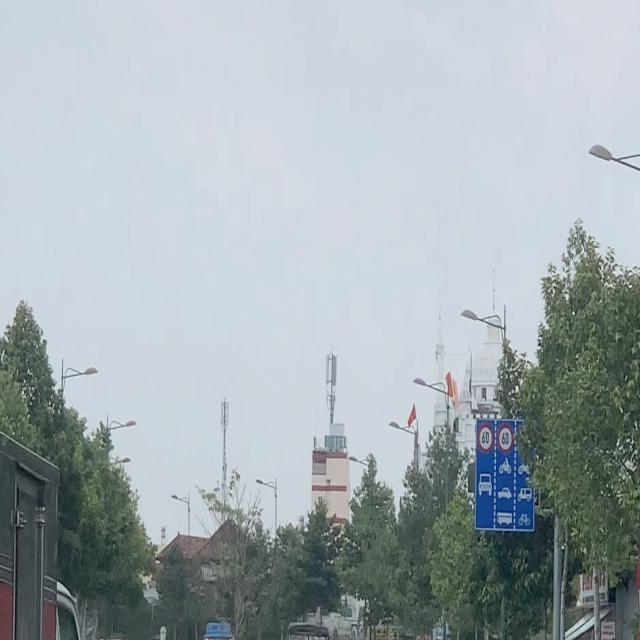Toc do toi da: (477, 423, 494, 452), (497, 424, 514, 453)
